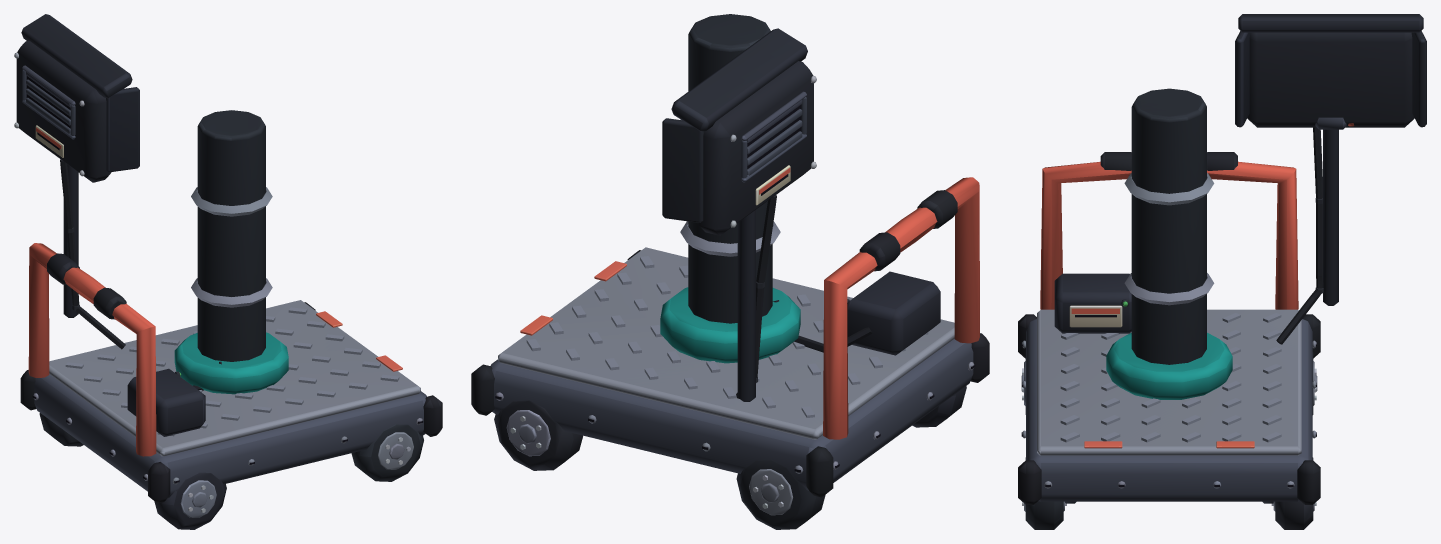
The model's file is SM_Station_FilmCamera_Dolly.fbx.
The picture shows the model from 3 angles, left to right: view 1: azimuth 30°, elevation 25°; view 2: azimuth 150°, elevation 25°; view 3: azimuth 270°, elevation 25°; orthographic projection. The views are drawn at different scales.
Parts seen in each view (by area): view 1: SM_Station_FilmCamera_Dolly; view 2: SM_Station_FilmCamera_Dolly; view 3: SM_Station_FilmCamera_Dolly.
Boxes of the visible parts, bbox=[...] form: SM_Station_FilmCamera_Dolly: bbox=[14, 14, 442, 529]; SM_Station_FilmCamera_Dolly: bbox=[471, 14, 989, 529]; SM_Station_FilmCamera_Dolly: bbox=[1018, 14, 1426, 529].
Bounding box in the file's own units: 104 × 126 × 111.
